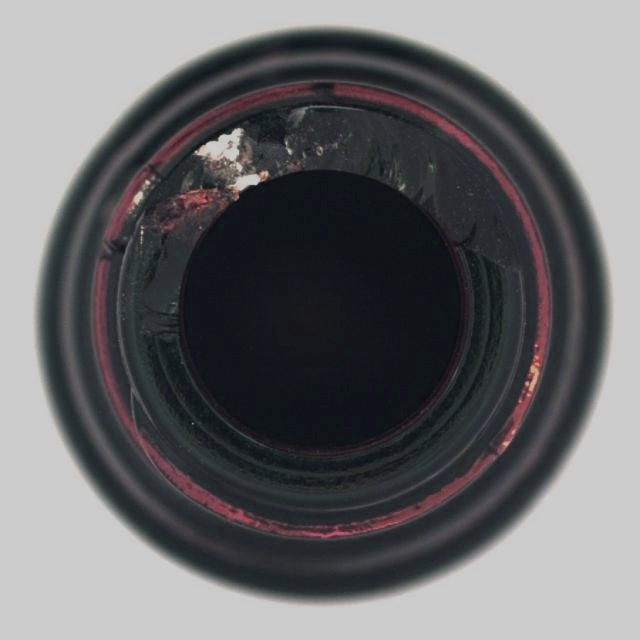bad-broken_small: (34, 25, 614, 606)
